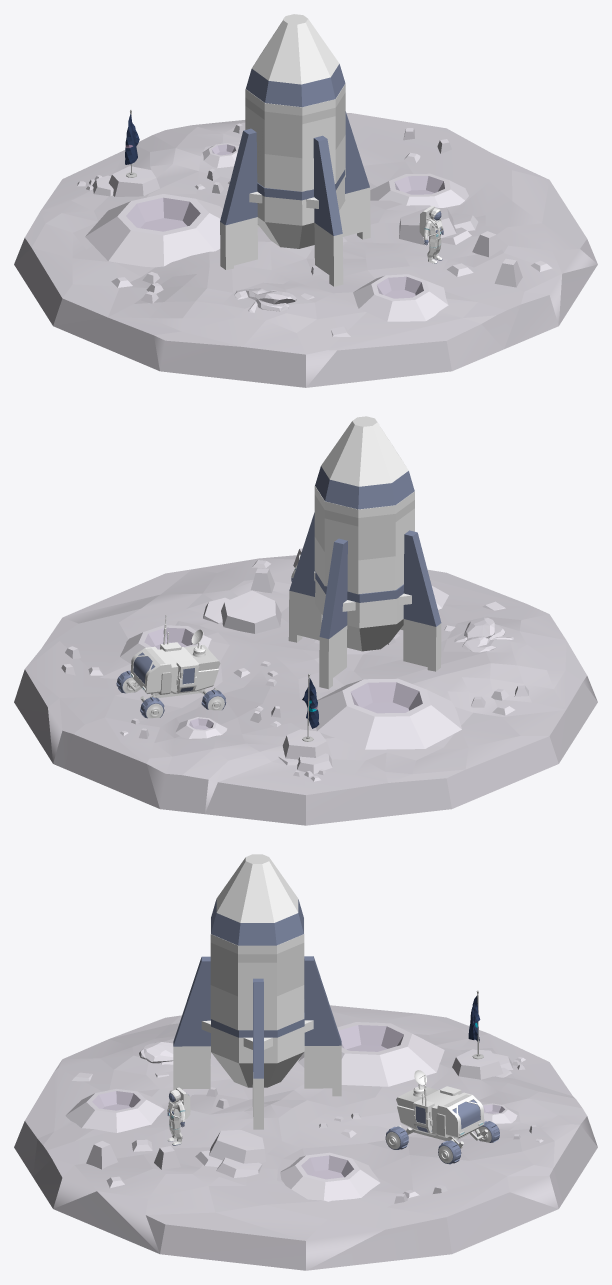
Rendered from Moon.gltf.
The picture shows the model from 3 angles, top to bottom: view 1: azimuth 30°, elevation 25°; view 2: azimuth 150°, elevation 25°; view 3: azimuth 270°, elevation 25°; orthographic projection.
Parts seen in each view (by area): view 1: SM_Base_Dirt_01, Scene_1 (×4), Scene_9, Scene_10, Scene_27, Scene_5, Scene (×3), Scene_28, Scene_3, SM_Env_Generic_Rock_08, SM_Env_Generic_Rock_08__1_, rocks_smallB (+5 smaller); view 2: SM_Base_Dirt_01, Scene_1 (×3), Scene_9, Scene_10, Scene_27, Scene_5, Rover_1, Scene_28, Scene (×2), SM_Env_Generic_Rock_08, rover_1, Scene_3 (+7 smaller); view 3: SM_Base_Dirt_01, Scene_1 (×3), Scene_9, Scene_10, Scene_27, Scene_5, Scene (×3), Scene_28, Rover_1, rover_1, SM_Env_Generic_Rock_08, Scene_3 (+6 smaller).
Part boxes in pixels (x1=…): SM_Base_Dirt_01: x1=14, y1=113, x2=597, y2=387; Scene_1 (×4): x1=85, y1=143, x2=468, y2=321; Scene_9: x1=220, y1=169, x2=370, y2=286; Scene_10: x1=220, y1=111, x2=369, y2=235; Scene_27: x1=245, y1=83, x2=345, y2=191; Scene_5: x1=252, y1=19, x2=339, y2=84; Scene (×3): x1=126, y1=176, x2=444, y2=298; Scene_28: x1=245, y1=92, x2=345, y2=158; Scene_3: x1=246, y1=64, x2=345, y2=107; SM_Env_Generic_Rock_08: x1=399, y1=208, x2=478, y2=245; SM_Env_Generic_Rock_08__1_: x1=92, y1=166, x2=159, y2=196; rocks_smallB: x1=447, y1=231, x2=552, y2=287; SM_Base_Dirt_01: x1=14, y1=555, x2=597, y2=825; Scene_1 (×3): x1=120, y1=625, x2=461, y2=749; Scene_9: x1=288, y1=571, x2=441, y2=689; Scene_10: x1=289, y1=512, x2=441, y2=638; Scene_27: x1=314, y1=486, x2=414, y2=594; Scene_5: x1=321, y1=421, x2=408, y2=486; Rover_1: x1=130, y1=615, x2=218, y2=697; Scene_28: x1=314, y1=494, x2=414, y2=560; Scene (×2): x1=144, y1=627, x2=422, y2=713; SM_Env_Generic_Rock_08: x1=203, y1=590, x2=281, y2=633; rover_1: x1=122, y1=629, x2=224, y2=718; Scene_3: x1=315, y1=466, x2=414, y2=509; SM_Base_Dirt_01: x1=14, y1=1005, x2=597, y2=1270; Scene_1 (×3): x1=65, y1=1022, x2=444, y2=1201; Scene_9: x1=173, y1=1020, x2=341, y2=1129; Scene_10: x1=173, y1=956, x2=341, y2=1078; Scene_27: x1=210, y1=918, x2=304, y2=1030; Scene_5: x1=216, y1=857, x2=298, y2=922; Scene (×3): x1=92, y1=1025, x2=403, y2=1179; Scene_28: x1=210, y1=943, x2=304, y2=996; Rover_1: x1=397, y1=1075, x2=484, y2=1140; rover_1: x1=386, y1=1070, x2=491, y2=1163; SM_Env_Generic_Rock_08: x1=195, y1=1130, x2=265, y2=1177; Scene_3: x1=211, y1=899, x2=303, y2=945.
Size of the model in its own units: 499 by 256 by 499.
Materials: 32 (1 with a texture image).
